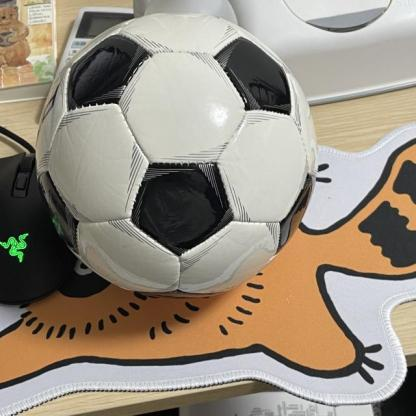ball: (37, 15, 319, 297)
